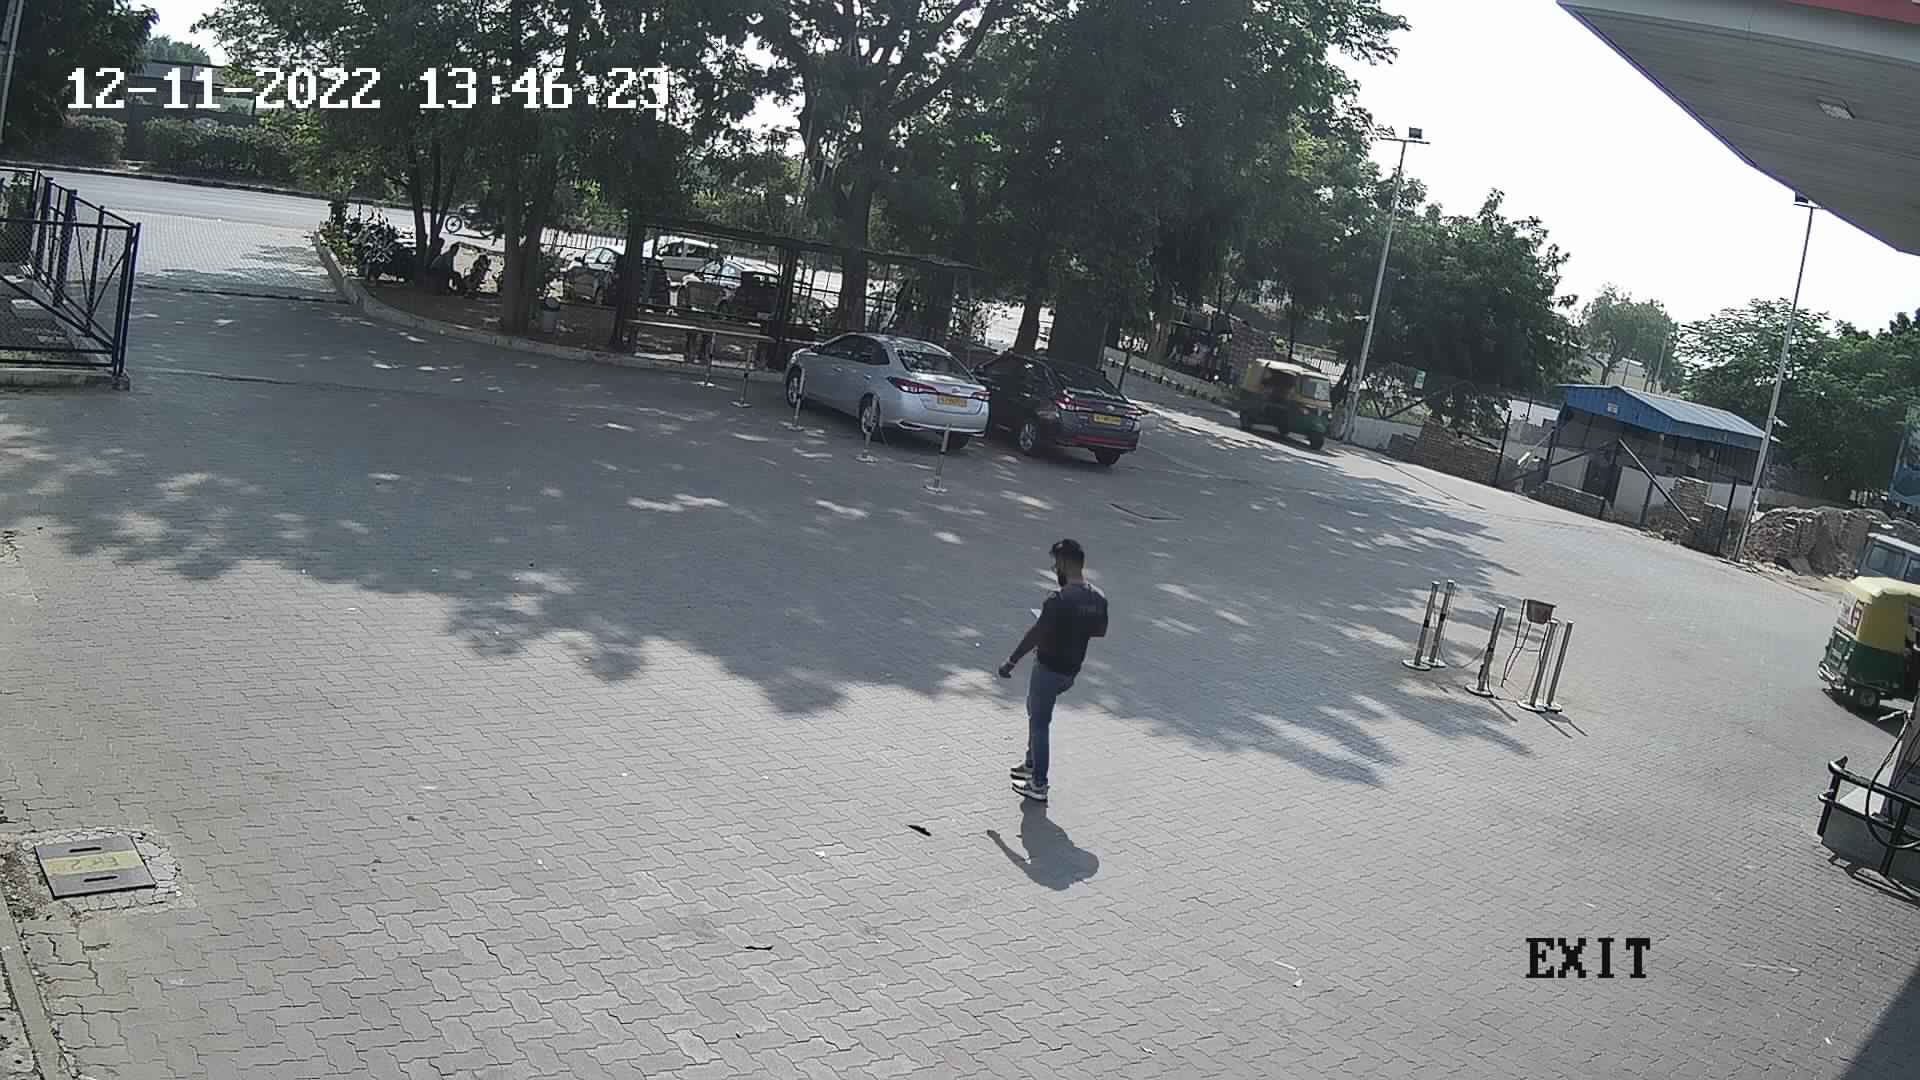Auto: (1804, 551, 1920, 740), (1209, 345, 1342, 460)
Car: (782, 314, 998, 455), (968, 336, 1149, 471), (673, 247, 779, 316), (550, 231, 626, 306), (644, 219, 723, 285)
